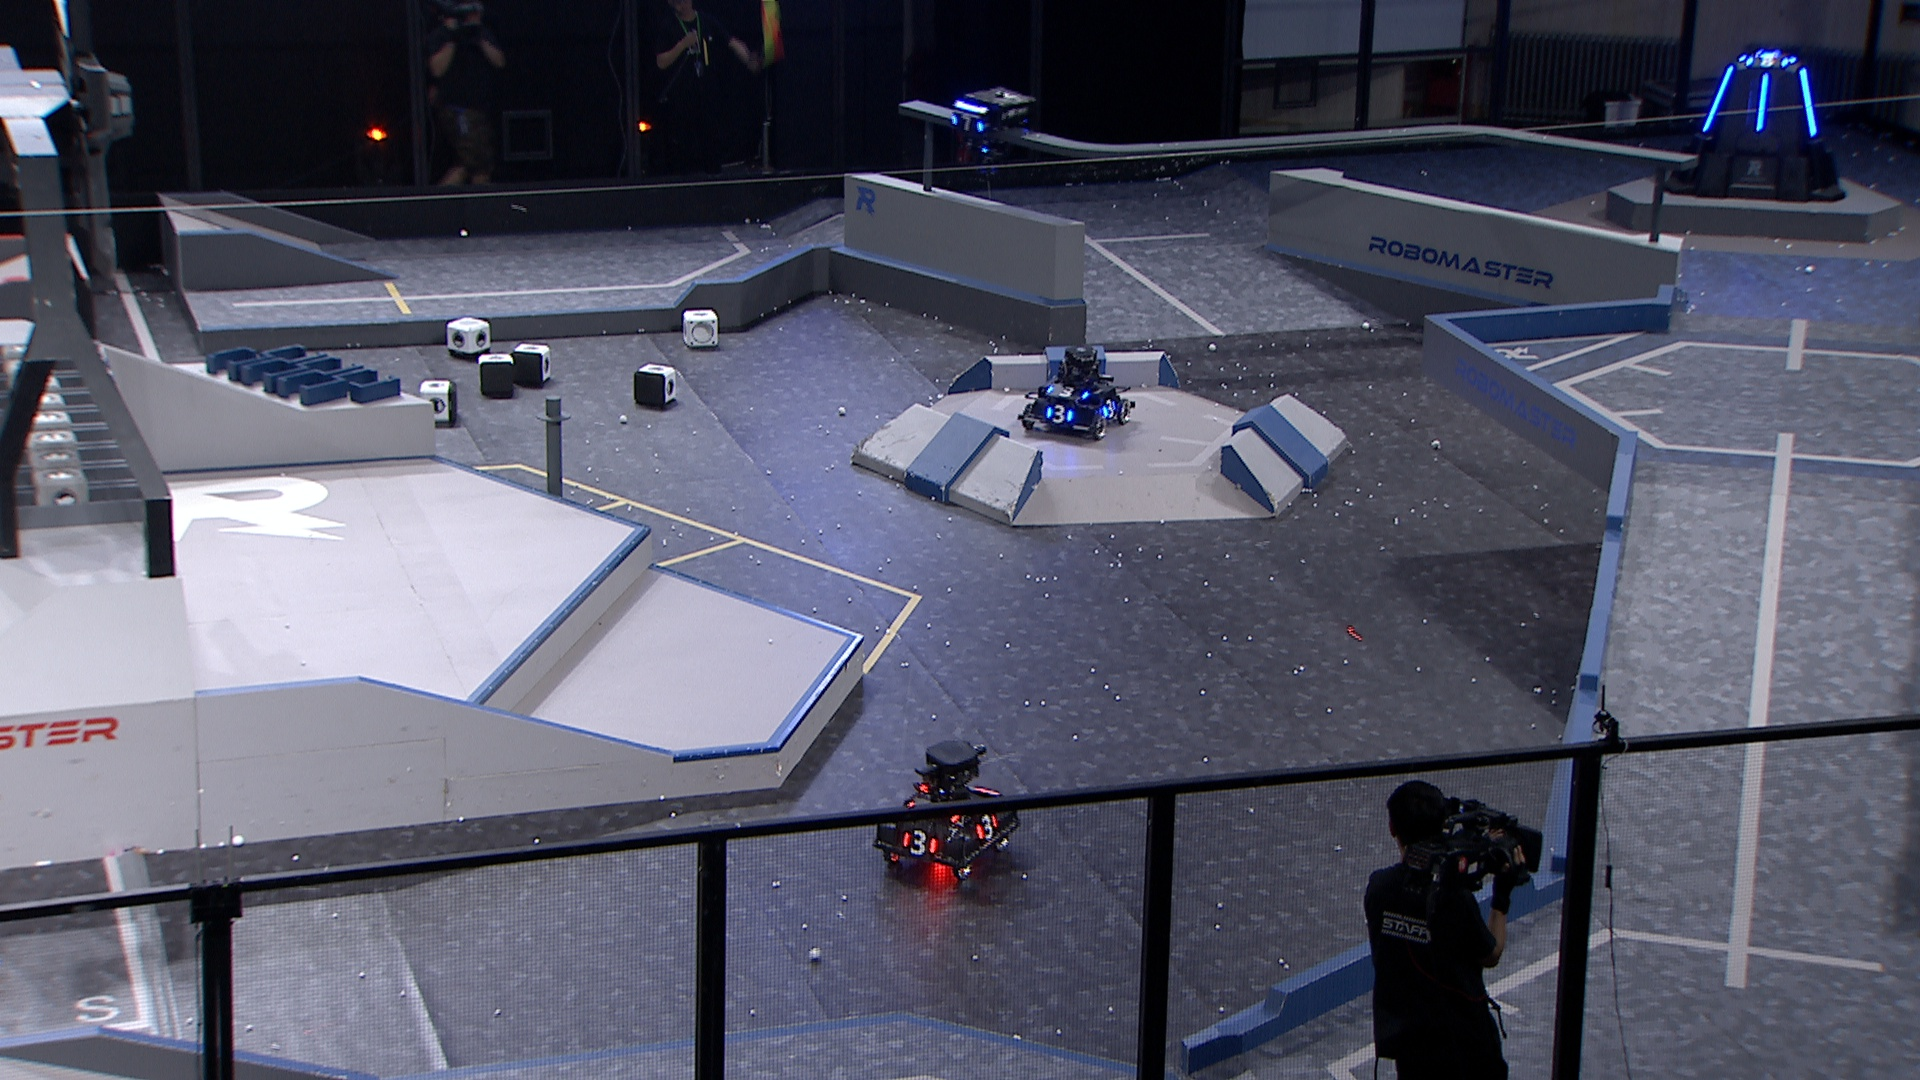armor: (1700, 61, 1737, 136), (1795, 69, 1820, 140), (899, 825, 938, 858), (1753, 69, 1771, 135), (1743, 53, 1789, 73), (1046, 384, 1091, 404), (949, 109, 986, 133), (1044, 400, 1073, 427), (973, 814, 1000, 843), (1101, 396, 1116, 419)
base: (1664, 44, 1851, 204)
car: (869, 735, 1025, 884), (1015, 342, 1135, 443)
watcher: (945, 86, 1034, 174)
